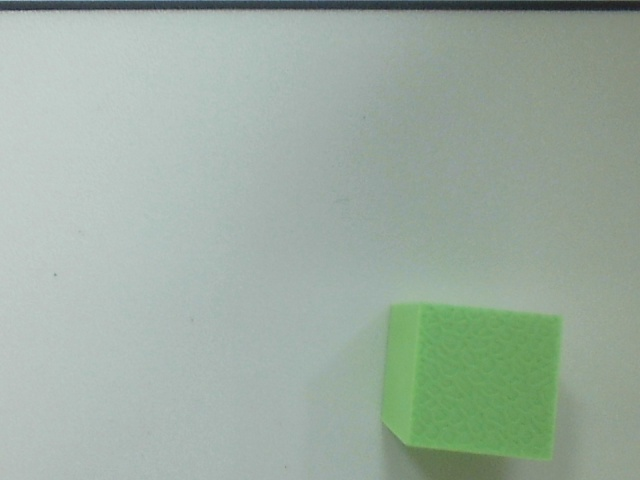greencube: (384, 296, 566, 469)
